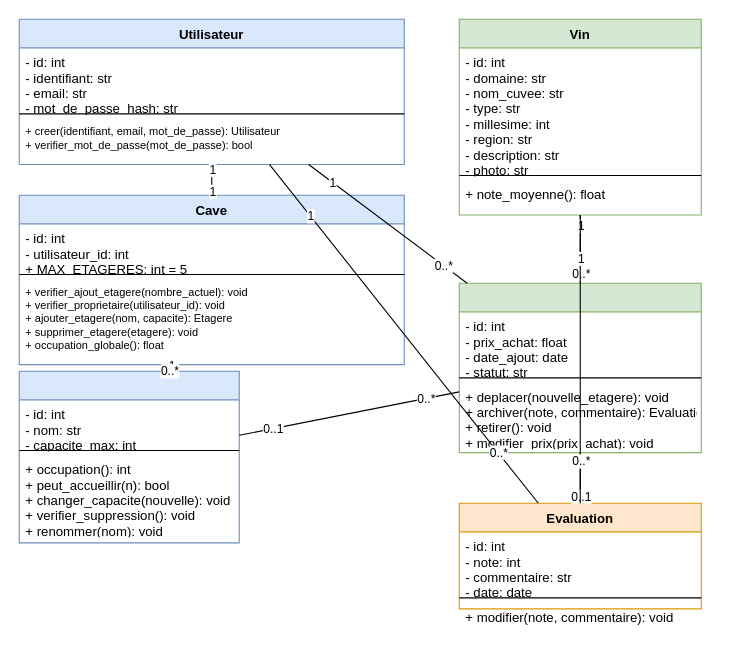
The diagram is 729 pixels wide and 651 high, and some of its shapes have lost their labels. Each missing label, with the box of its shape:
Bouteille: (458, 282, 701, 453)
Etagere: (18, 370, 239, 543)
